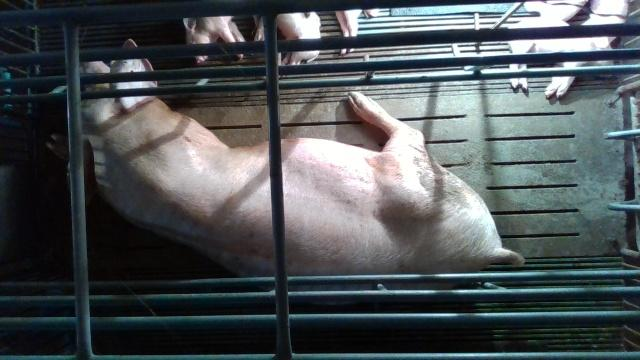piglet: (507, 17, 614, 98), (254, 13, 320, 65), (182, 16, 246, 63)
sow-sit: (50, 38, 524, 307)
